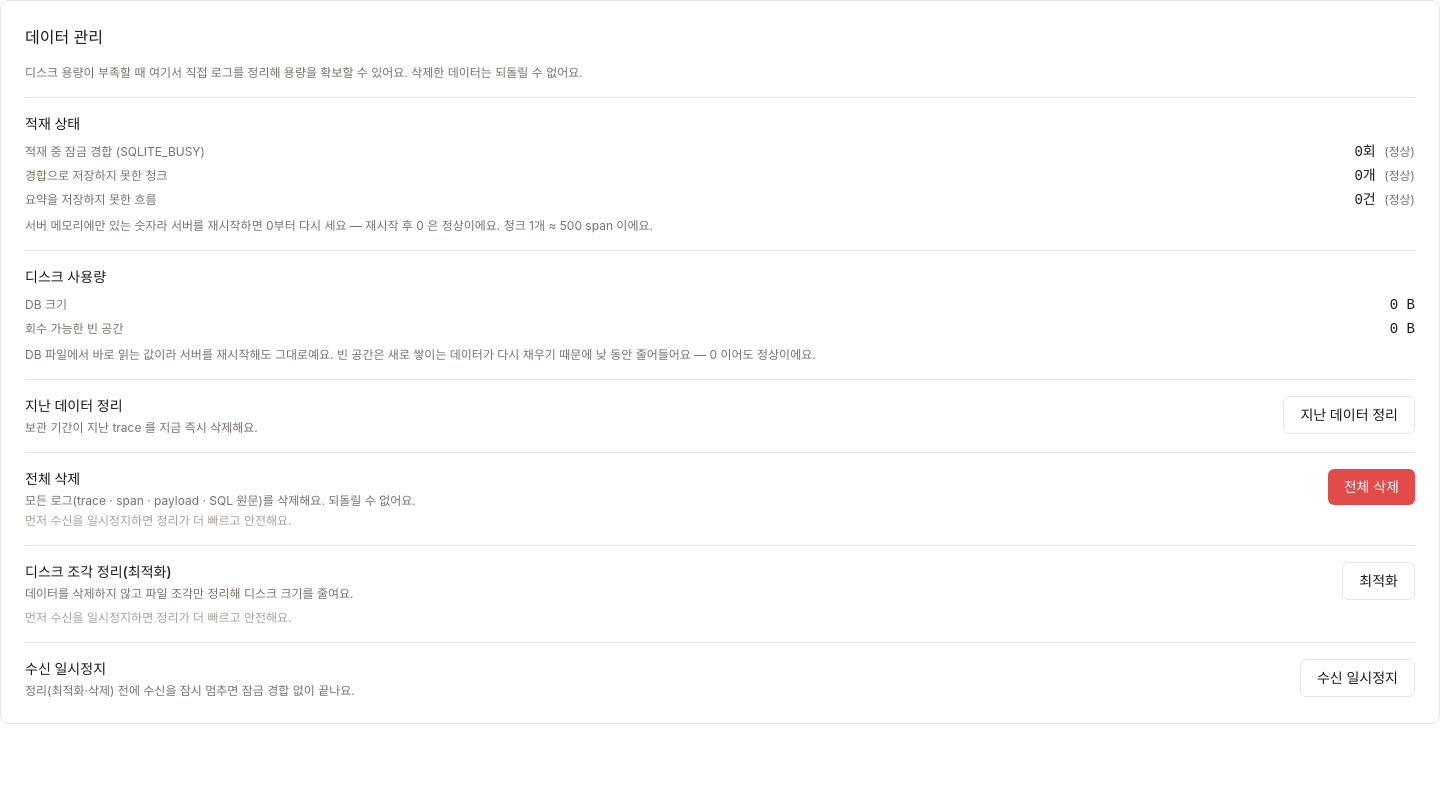
it: DataManagementSection — 수동 디스크 정리 (cleanup / purge) › showsErrorToastOnCleanupFailure — cleanup 실패 시 고정 문구 토스트 (BE 본문 노출 0)
The width and height of the screenshot is (1440, 810).
Click the button "지난 데이터 정리" at (1349, 415), box [1283,396,1415,434]
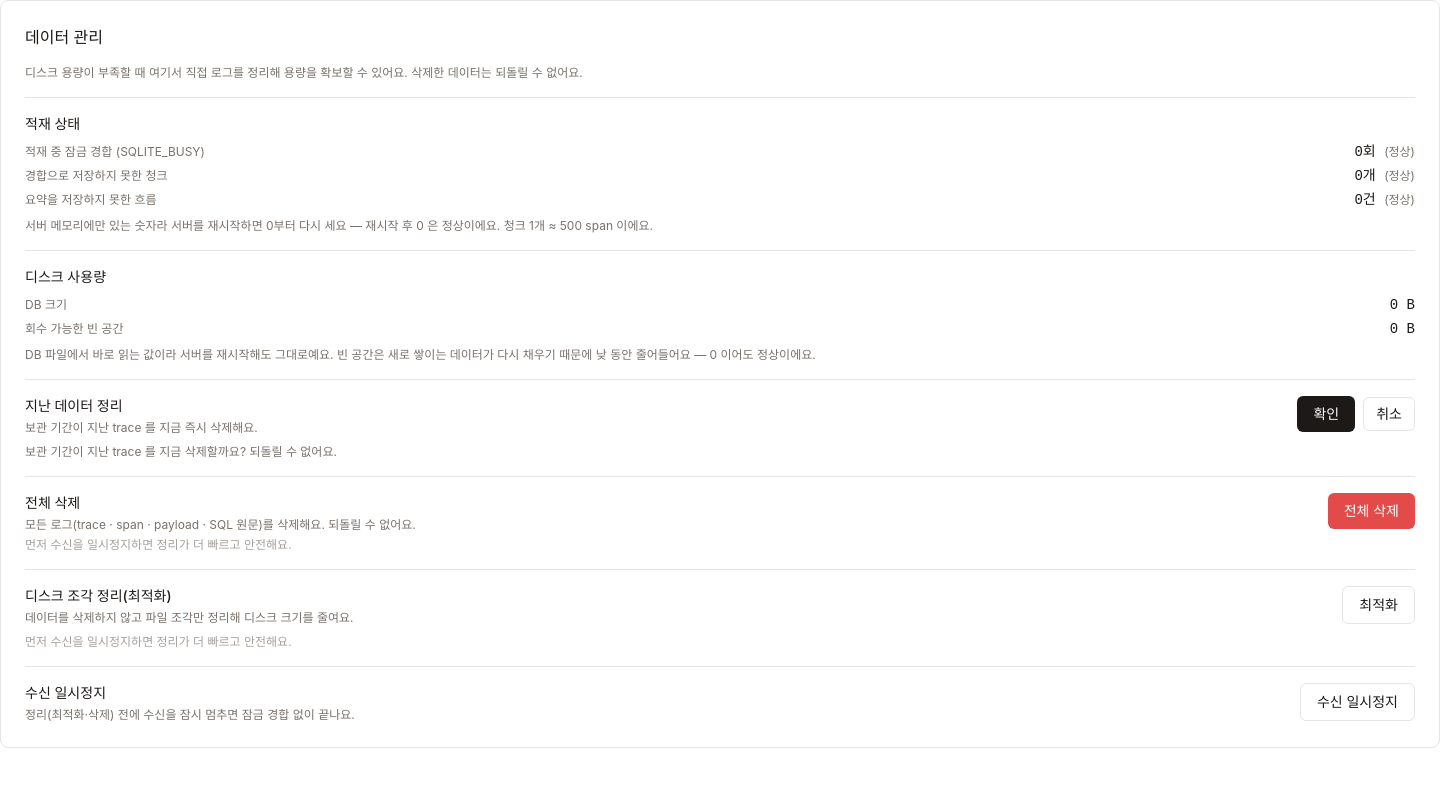
Click the button "확인" at (1326, 414), box [1298,396,1355,432]
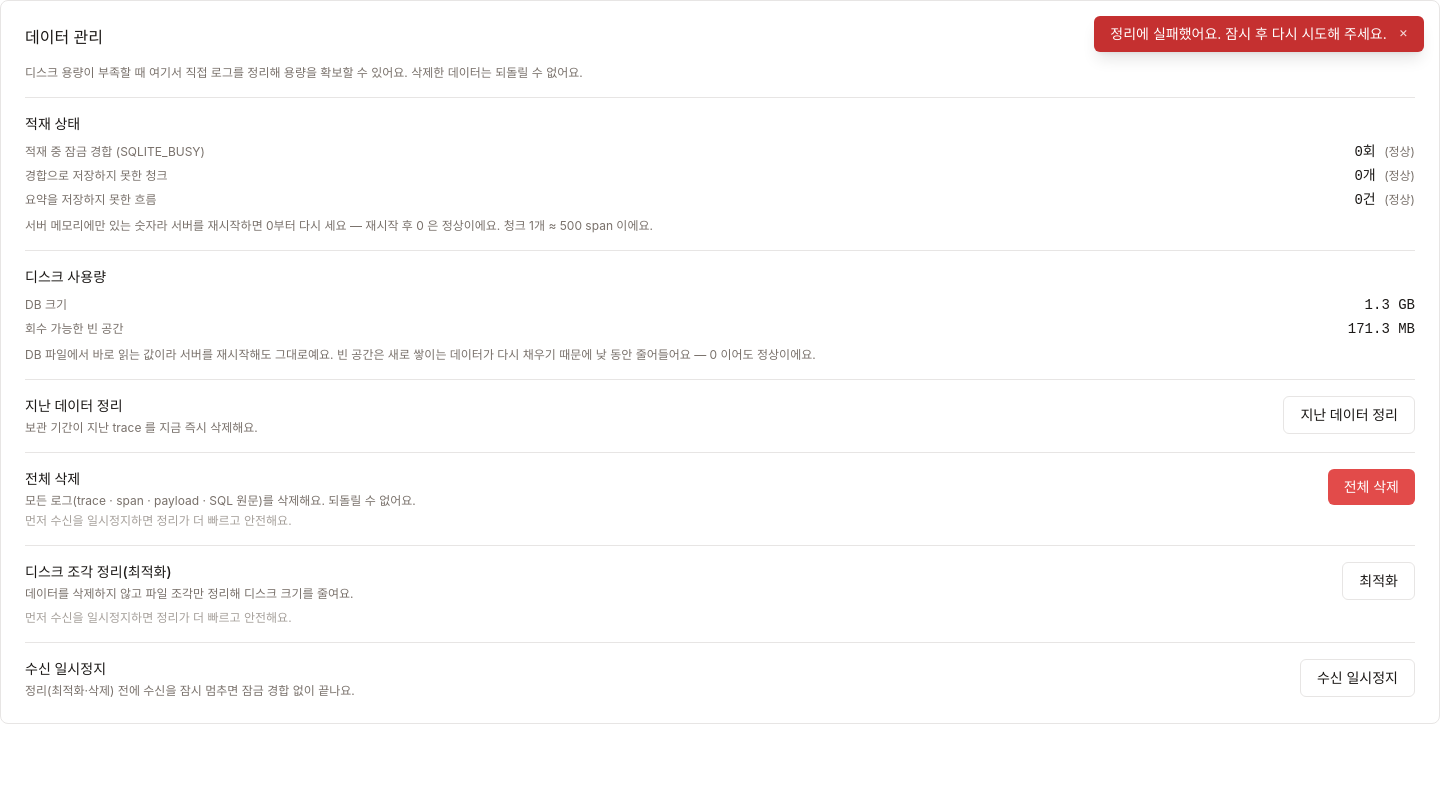
Expected: the text "정리에 실패했어요. 잠시 후 다시 시도해 주세요." is shown, [1110,24,1387,44]
